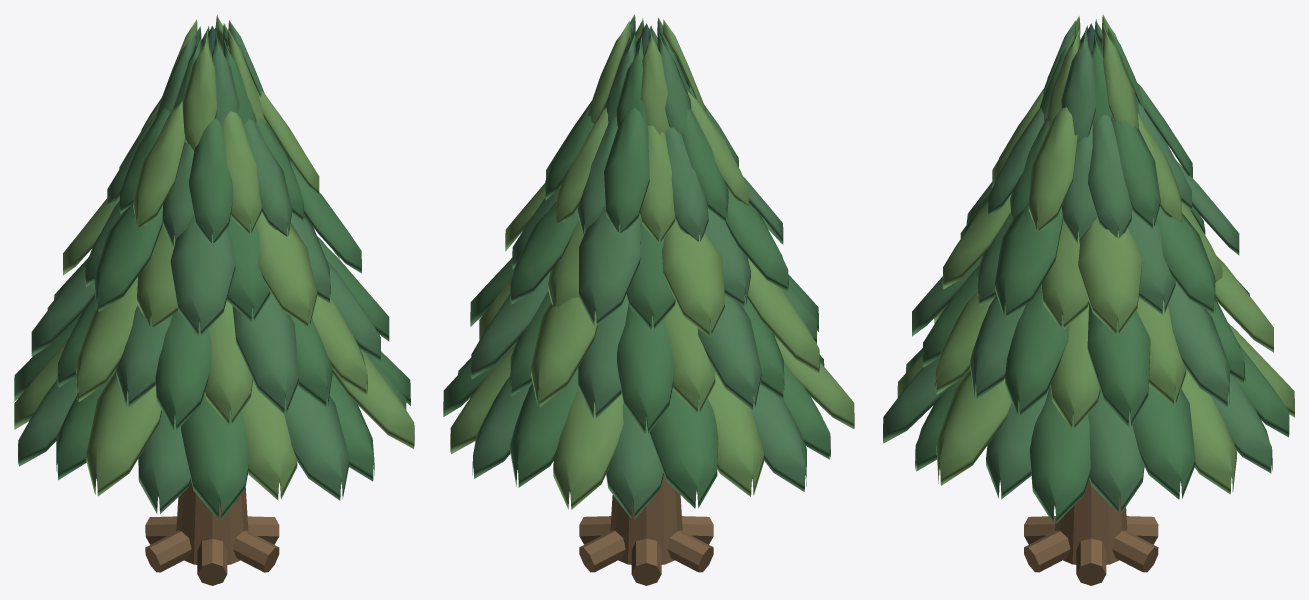
The model's file is pine_small.glb.
The picture shows the model from 3 angles, left to right: view 1: azimuth 30°, elevation 25°; view 2: azimuth 150°, elevation 25°; view 3: azimuth 270°, elevation 25°; orthographic projection.
Parts seen in each view (by area): view 1: Occlude_Canopy_SW_Mesh, Occlude_Canopy_SE_Mesh, Occlude_Canopy_NW_Mesh, Keep_Mesh; view 2: Occlude_Canopy_NW_Mesh, Occlude_Canopy_NE_Mesh, Occlude_Canopy_SW_Mesh, Keep_Mesh; view 3: Occlude_Canopy_NE_Mesh, Occlude_Canopy_SE_Mesh, Keep_Mesh, Occlude_Canopy_NW_Mesh, Occlude_Canopy_SW_Mesh.
Part boxes in pixels (bbox=[...]): Occlude_Canopy_SW_Mesh: bbox=[56, 26, 298, 519]; Occlude_Canopy_SE_Mesh: bbox=[212, 20, 414, 500]; Occlude_Canopy_NW_Mesh: bbox=[14, 19, 211, 466]; Keep_Mesh: bbox=[145, 481, 279, 585]; Occlude_Canopy_NW_Mesh: bbox=[553, 23, 806, 518]; Occlude_Canopy_NE_Mesh: bbox=[443, 21, 646, 487]; Occlude_Canopy_SW_Mesh: bbox=[647, 17, 854, 459]; Keep_Mesh: bbox=[579, 475, 713, 585]; Occlude_Canopy_NE_Mesh: bbox=[1078, 24, 1289, 513]; Occlude_Canopy_SE_Mesh: bbox=[883, 23, 1100, 523]; Keep_Mesh: bbox=[1024, 479, 1158, 585]; Occlude_Canopy_NW_Mesh: bbox=[1094, 14, 1294, 417]; Occlude_Canopy_SW_Mesh: bbox=[897, 16, 1088, 397].
Size of the model in its own units: 1.88 by 2.71 by 1.87.
